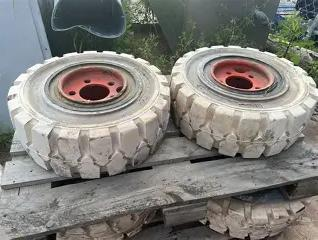ROAD_OBSTACLE: (8, 50, 171, 180), (170, 45, 318, 155)
